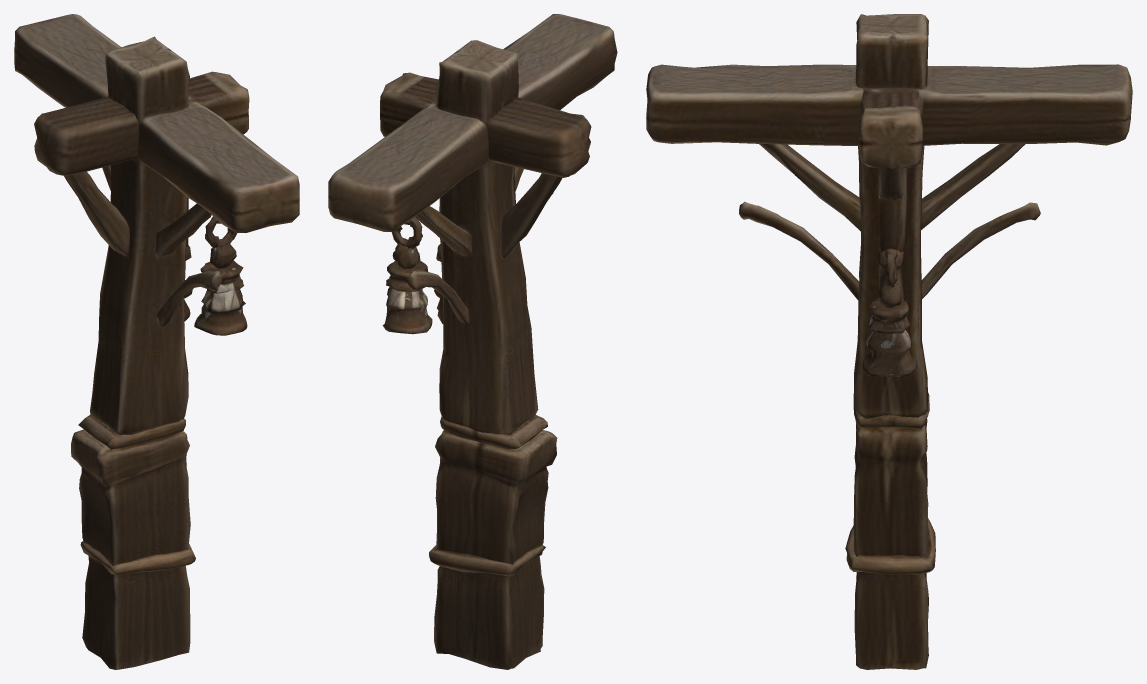
The model's file is mt_pilar.glb.
3 renders of one model, left to right at view 1: azimuth 30°, elevation 25°; view 2: azimuth 150°, elevation 25°; view 3: azimuth 270°, elevation 25°, orthographic. The views are drawn at different scales.
Visible parts, largest first — view 1: Mesh_0.002; view 2: Mesh_0.002; view 3: Mesh_0.002.
Boxes of the visible parts, box(x1,y1,x2,y2) form: Mesh_0.002: box(14, 14, 299, 669); Mesh_0.002: box(328, 14, 617, 669); Mesh_0.002: box(646, 14, 1132, 669).
Bounding box in the file's own units: 0.1289 × 0.3789 × 0.2637.
Materials: 1 (1 with a texture image).
